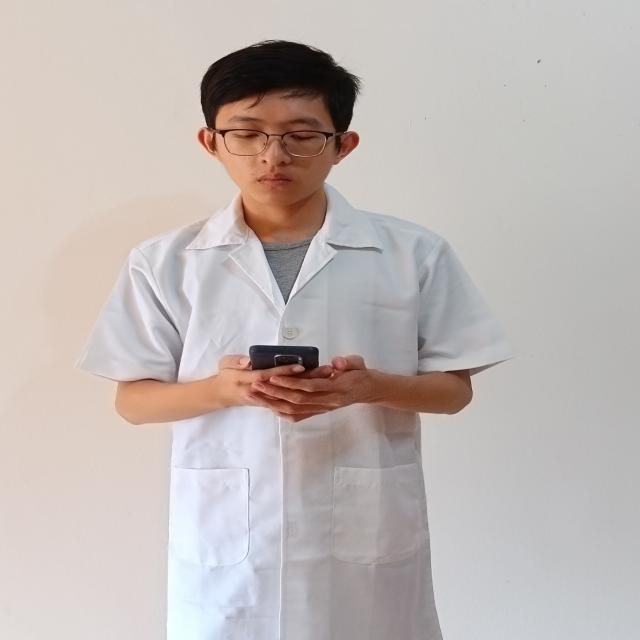person_with_labcoat: (79, 41, 513, 640)
